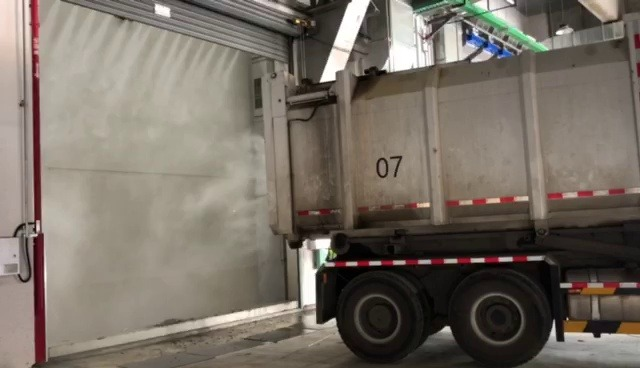dust: (45, 146, 266, 314)
truck: (266, 15, 639, 368)
